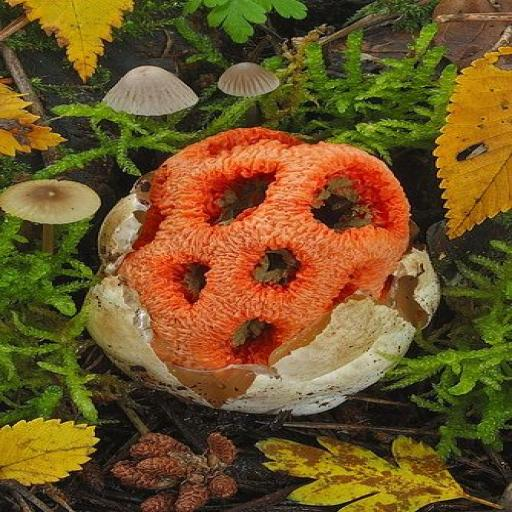Red Cage Fungus: (70, 60, 446, 420)
